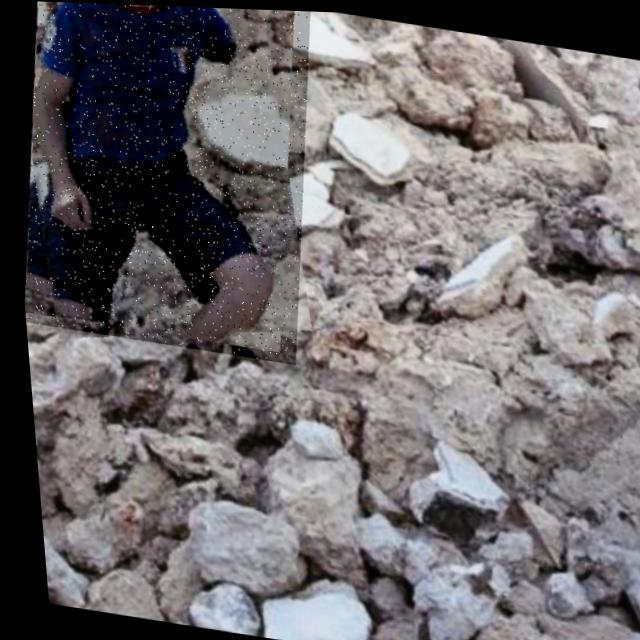Person in Rubble: (0, 0, 333, 363)
